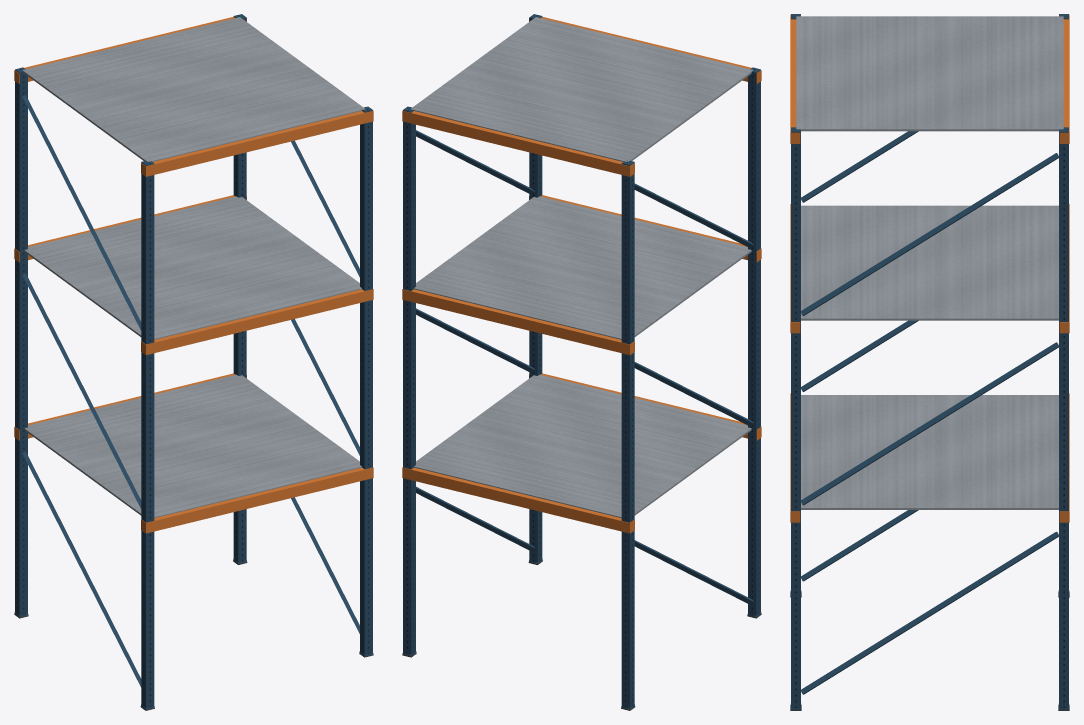
File: storage-rack-3-tier.glb
3 views of the same model, side by side, from view 1: azimuth 30°, elevation 25°; view 2: azimuth 150°, elevation 25°; view 3: azimuth 270°, elevation 25° (orthographic). The views are drawn at different scales.
Parts seen in each view (by area): view 1: storage-deck-3, storage-deck-2, storage-deck-1, rack-upright--1200--1200, rack-upright--1200-1200, rack-upright-1200--1200, rack-diagonal-brace (×6), rack-beam-1--1205, rack-beam-3--1205, rack-beam-2--1205, rack-upright-1200-1200, rack-beam-3-1205 (+2 smaller); view 2: storage-deck-3, storage-deck-2, storage-deck-1, rack-upright--1200-1200, rack-upright--1200--1200, rack-upright-1200-1200, rack-diagonal-brace (×6), rack-beam-1-1205, rack-beam-3-1205, rack-beam-2-1205, rack-upright-1200--1200, rack-beam-3--1205 (+2 smaller); view 3: storage-deck-3, storage-deck-2, storage-deck-1, rack-diagonal-brace (×6), rack-upright-1200--1200, rack-upright-1200-1200, rack-beam-3--1205, rack-beam-3-1205.
Boxes of the visible parts, x1,y1,x2,y2 form: storage-deck-3: (22,17,364,161); storage-deck-2: (24,196,361,339); storage-deck-1: (24,374,361,517); rack-upright--1200--1200: (141,160,154,707); rack-upright--1200-1200: (15,67,27,615); rack-upright-1200--1200: (360,106,372,654); rack-diagonal-brace (×6): (22,95,359,687); rack-beam-1--1205: (141,467,373,533); rack-beam-3--1205: (141,110,373,176); rack-beam-2--1205: (141,289,373,354); rack-upright-1200-1200: (233,14,246,561); rack-beam-3-1205: (14,17,246,83); storage-deck-3: (411,17,753,161); storage-deck-2: (414,196,751,339); storage-deck-1: (414,374,751,517); rack-upright--1200-1200: (621,160,634,707); rack-upright--1200--1200: (748,67,760,615); rack-upright-1200-1200: (403,106,415,654); rack-diagonal-brace (×6): (416,130,753,604); rack-beam-1-1205: (402,467,634,533); rack-beam-3-1205: (402,110,634,176); rack-beam-2-1205: (402,289,634,354); rack-upright-1200--1200: (529,14,542,561); rack-beam-3--1205: (529,17,761,83); storage-deck-3: (796,16,1063,131); storage-deck-2: (801,205,1058,320); storage-deck-1: (801,395,1058,509); rack-diagonal-brace (×6): (801,131,1058,694); rack-upright-1200--1200: (791,127,800,707); rack-upright-1200-1200: (1059,127,1068,707); rack-beam-3--1205: (790,14,800,143); rack-beam-3-1205: (1059,14,1069,143).
Bounding box in the file's own units: 2.5 × 5.72 × 2.5.
Materials: 6 (2 with a texture image).
